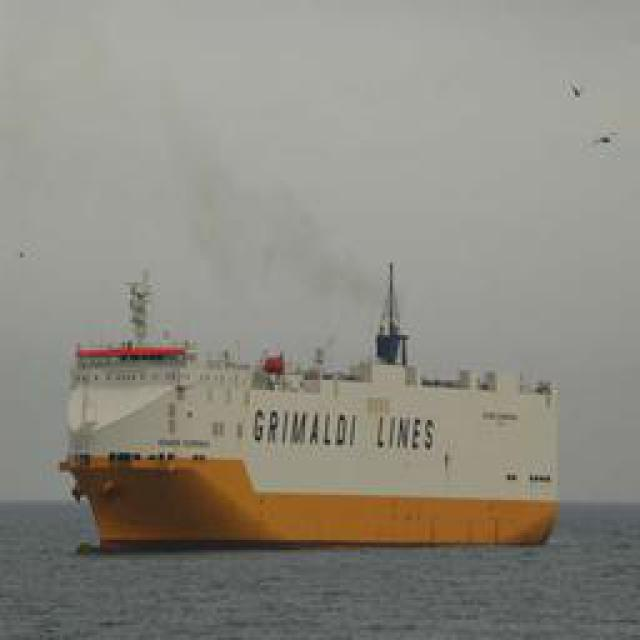Ship: (58, 247, 576, 550)
